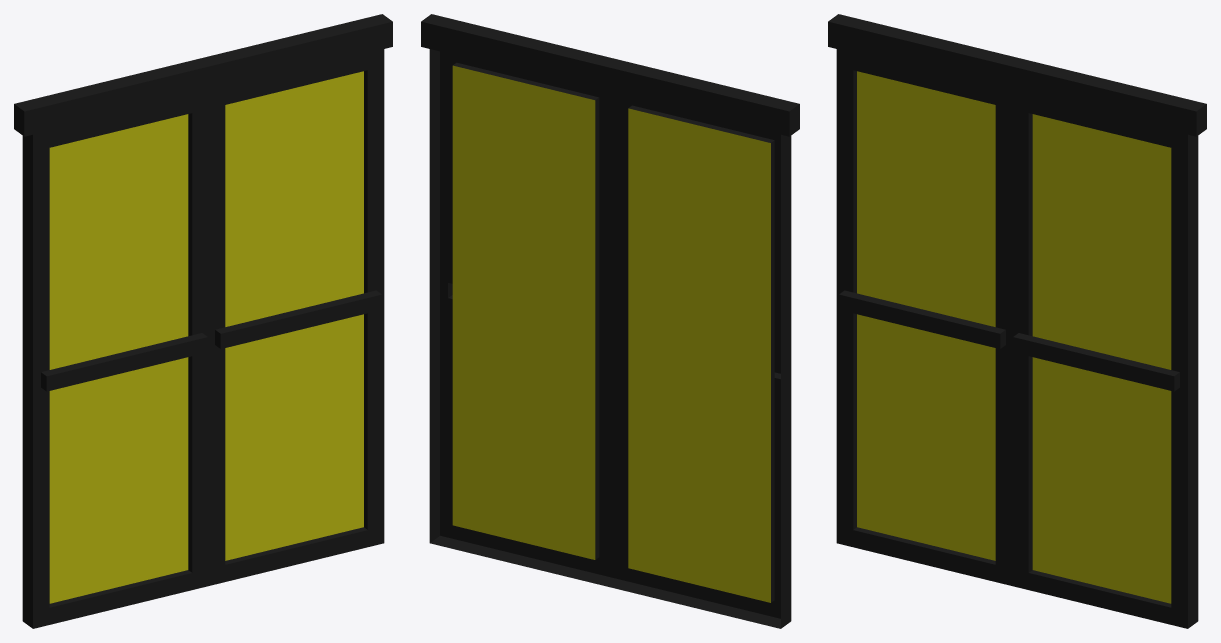
Rendered from Porte.fbx.
The picture shows the model from 3 angles, left to right: view 1: azimuth 30°, elevation 25°; view 2: azimuth 150°, elevation 25°; view 3: azimuth 330°, elevation 25°; orthographic projection.
Visible parts, largest first — view 1: Plane009; view 2: Plane009; view 3: Plane009.
Boxes of the visible parts, left/top/right/bottom form: Plane009: left=14, top=14, right=392, bottom=628; Plane009: left=421, top=14, right=799, bottom=628; Plane009: left=828, top=14, right=1206, bottom=628.
Size of the model in its own units: 182 by 245 by 13.71.
